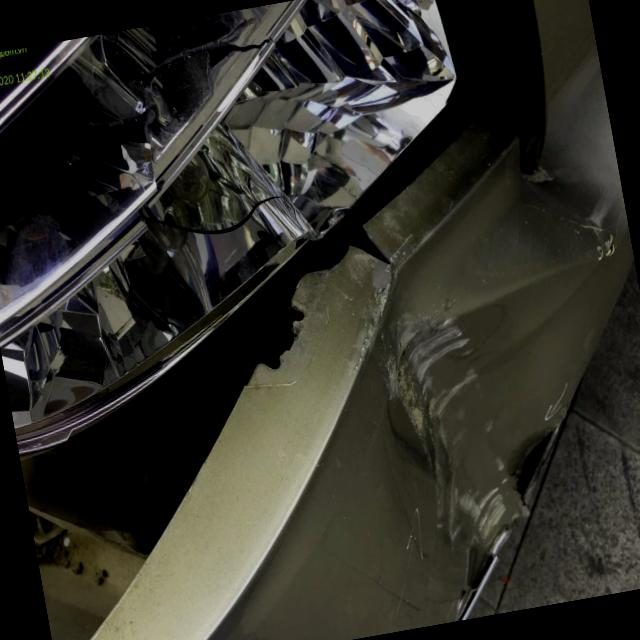Cabossage: (324, 271, 538, 604), (500, 135, 619, 254)
Dechirure: (0, 31, 640, 640), (501, 423, 573, 531)
Rayure: (372, 299, 525, 589)
